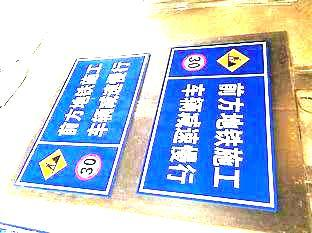sign: (152, 46, 276, 203), (27, 53, 134, 191)
